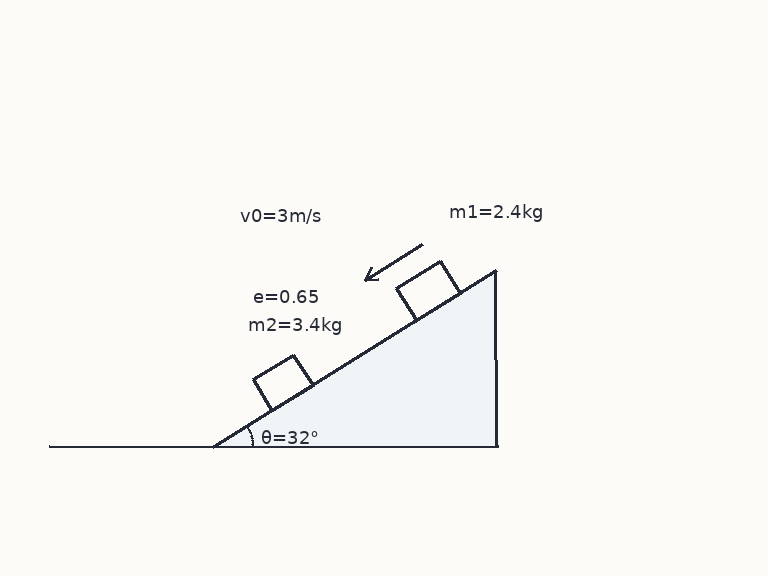block: (394, 259, 462, 322), (251, 352, 315, 412)
ramp: (211, 269, 497, 449)
